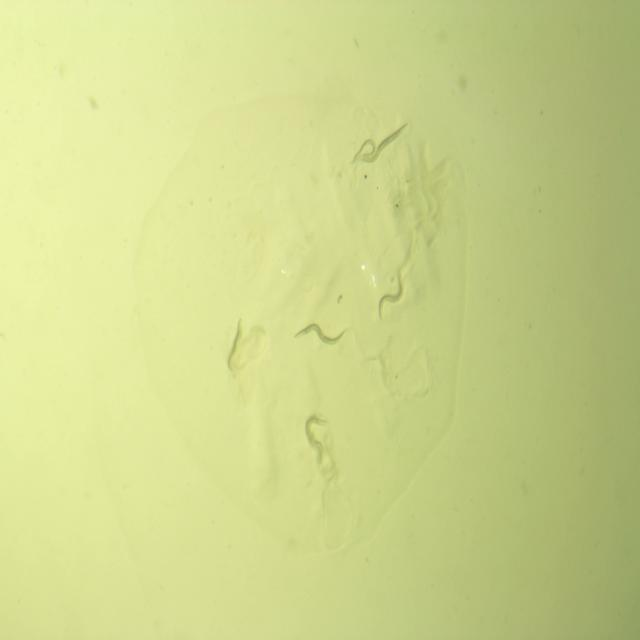worm: (358, 116, 413, 165), (288, 315, 350, 354), (220, 311, 252, 378), (372, 268, 408, 324), (301, 411, 333, 467), (348, 132, 379, 170)
